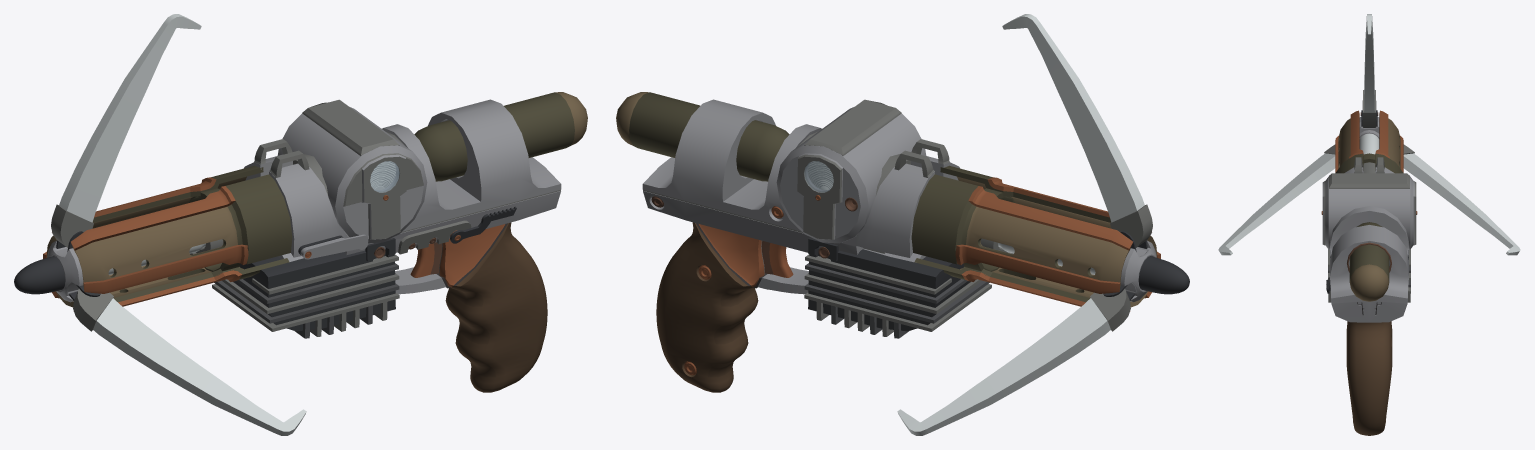
The model's file is hookgunRedux4.fbx.
3 renders of one model, left to right at view 1: azimuth 30°, elevation 25°; view 2: azimuth 150°, elevation 25°; view 3: azimuth 270°, elevation 25°, orthographic. The views are drawn at different scales.
Parts seen in each view (by area): view 1: Cylinder.002_LIGHT metall_0, Cube.001_wood_0, Cylinder_paint metal_0, Cylinder_dark paint metal_0, Cylinder.010_metal cooper _0, Cube.025_metall kryk_0, Cube.026_metall kryk_0, Cylinder.004_LIGHT metall_0, Cube_Dark metall_0, Cylinder.003_dark paint metal_0, Cube.010_main metall_0, Cylinder.013_main metall_0 (+20 smaller); view 2: Cylinder.002_LIGHT metall_0, Cube.001_wood_0, Cylinder_paint metal_0, Cylinder.004_LIGHT metall_0, Cylinder_dark paint metal_0, Cylinder.010_metal cooper _0, Cube.025_metall kryk_0, Cube.009_metall kryk_0, Cube_Dark metall_0, Cylinder.003_dark paint metal_0, Cube.010_main metall_0, Cylinder.013_main metall_0 (+16 smaller); view 3: Cylinder.002_LIGHT metall_0, Cube.001_wood_0, Cylinder.004_LIGHT metall_0, Cube.009_metall kryk_0, Cube.026_metall kryk_0, Cylinder.013_main metall_0, Cylinder.010_metal cooper _0, Cylinder.003_paint metal_0, Cylinder_paint metal_0, Cube.025_metall kryk_0, Cylinder.003_dark paint metal_0, Cylinder_dark paint metal_0 (+2 smaller).
Boxes of the visible parts, x1,y1,x2,y2 form: Cylinder.002_LIGHT metall_0: (244, 99, 561, 261); Cube.001_wood_0: (445, 222, 547, 392); Cylinder_paint metal_0: (46, 176, 246, 307); Cylinder_dark paint metal_0: (92, 165, 292, 302); Cylinder.010_metal cooper _0: (43, 177, 248, 311); Cube.025_metall kryk_0: (59, 14, 201, 222); Cube.026_metall kryk_0: (93, 298, 306, 435); Cylinder.004_LIGHT metall_0: (277, 107, 427, 243); Cube_Dark metall_0: (233, 246, 395, 331); Cylinder.003_dark paint metal_0: (414, 92, 574, 181); Cube.010_main metall_0: (212, 254, 399, 331); Cylinder.013_main metall_0: (302, 99, 399, 155); Cylinder.002_LIGHT metall_0: (642, 99, 959, 262); Cube.001_wood_0: (656, 222, 758, 392); Cylinder_paint metal_0: (957, 176, 1157, 307); Cylinder.004_LIGHT metall_0: (776, 107, 926, 243); Cylinder_dark paint metal_0: (911, 165, 1111, 302); Cylinder.010_metal cooper _0: (955, 177, 1160, 311); Cube.025_metall kryk_0: (1002, 14, 1144, 222); Cube.009_metall kryk_0: (897, 298, 1110, 435); Cube_Dark metall_0: (808, 246, 970, 331); Cylinder.003_dark paint metal_0: (629, 92, 789, 181); Cube.010_main metall_0: (804, 254, 991, 331); Cylinder.013_main metall_0: (804, 99, 901, 155); Cylinder.002_LIGHT metall_0: (1330, 167, 1408, 322); Cube.001_wood_0: (1346, 321, 1392, 435); Cylinder.004_LIGHT metall_0: (1325, 176, 1413, 249); Cube.009_metall kryk_0: (1403, 153, 1520, 255); Cube.026_metall kryk_0: (1218, 153, 1335, 255); Cylinder.013_main metall_0: (1329, 173, 1409, 188); Cylinder.010_metal cooper _0: (1335, 110, 1403, 172); Cylinder.003_paint metal_0: (1350, 264, 1388, 301); Cylinder_paint metal_0: (1338, 118, 1400, 168); Cube.025_metall kryk_0: (1364, 14, 1374, 112); Cylinder.003_dark paint metal_0: (1349, 222, 1389, 287); Cylinder_dark paint metal_0: (1335, 135, 1403, 173).
Bounding box in the file's own units: 1203 × 909 × 800.
